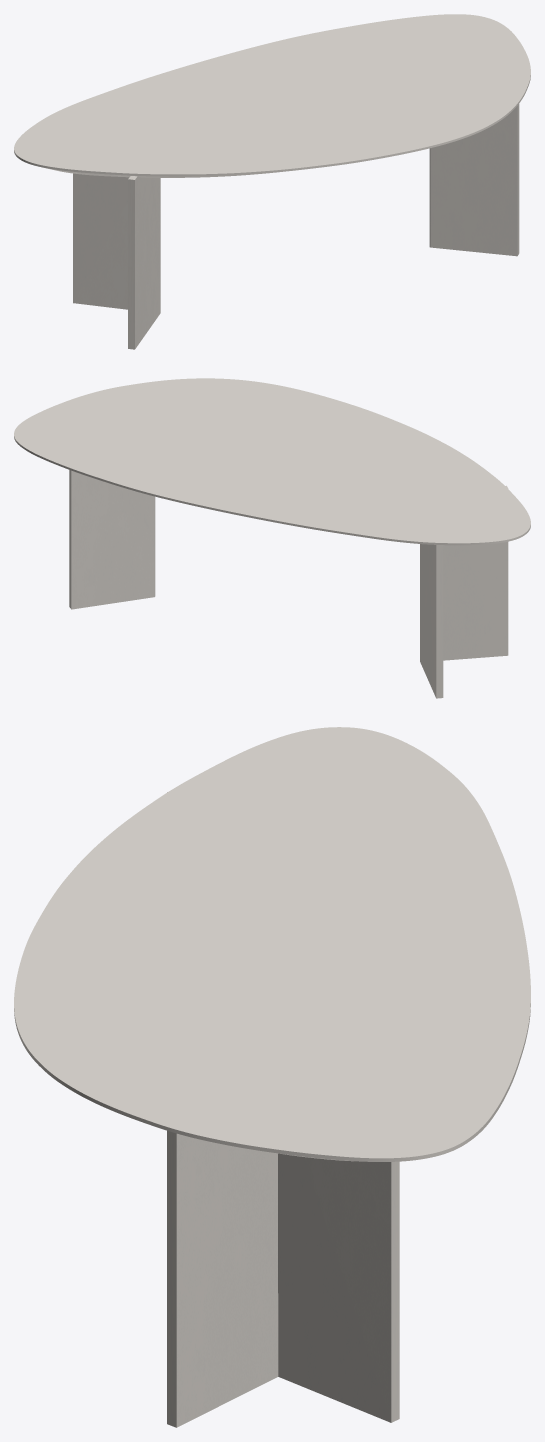
File: pearlwhite_pebbletop_facet_valleyv.glb
3 views of the same model, one above another, from view 1: azimuth 30°, elevation 25°; view 2: azimuth 150°, elevation 25°; view 3: azimuth 270°, elevation 25° (orthographic). The views are drawn at different scales.
Visible parts, largest first — view 1: facet_pebbletop, valleyv; view 2: facet_pebbletop, valleyv; view 3: facet_pebbletop, valleyv.
Part boxes in pixels (box(x1,y1,x2,y2)): facet_pebbletop: box(14, 14, 530, 177); valleyv: box(73, 104, 519, 349); facet_pebbletop: box(14, 378, 530, 545); valleyv: box(69, 470, 508, 698); facet_pebbletop: box(14, 727, 530, 1161); valleyv: box(167, 792, 399, 1427).
Bounding box in the file's own units: 7.5 × 2.5 × 3.8.
Materials: 1 (1 with a texture image).
